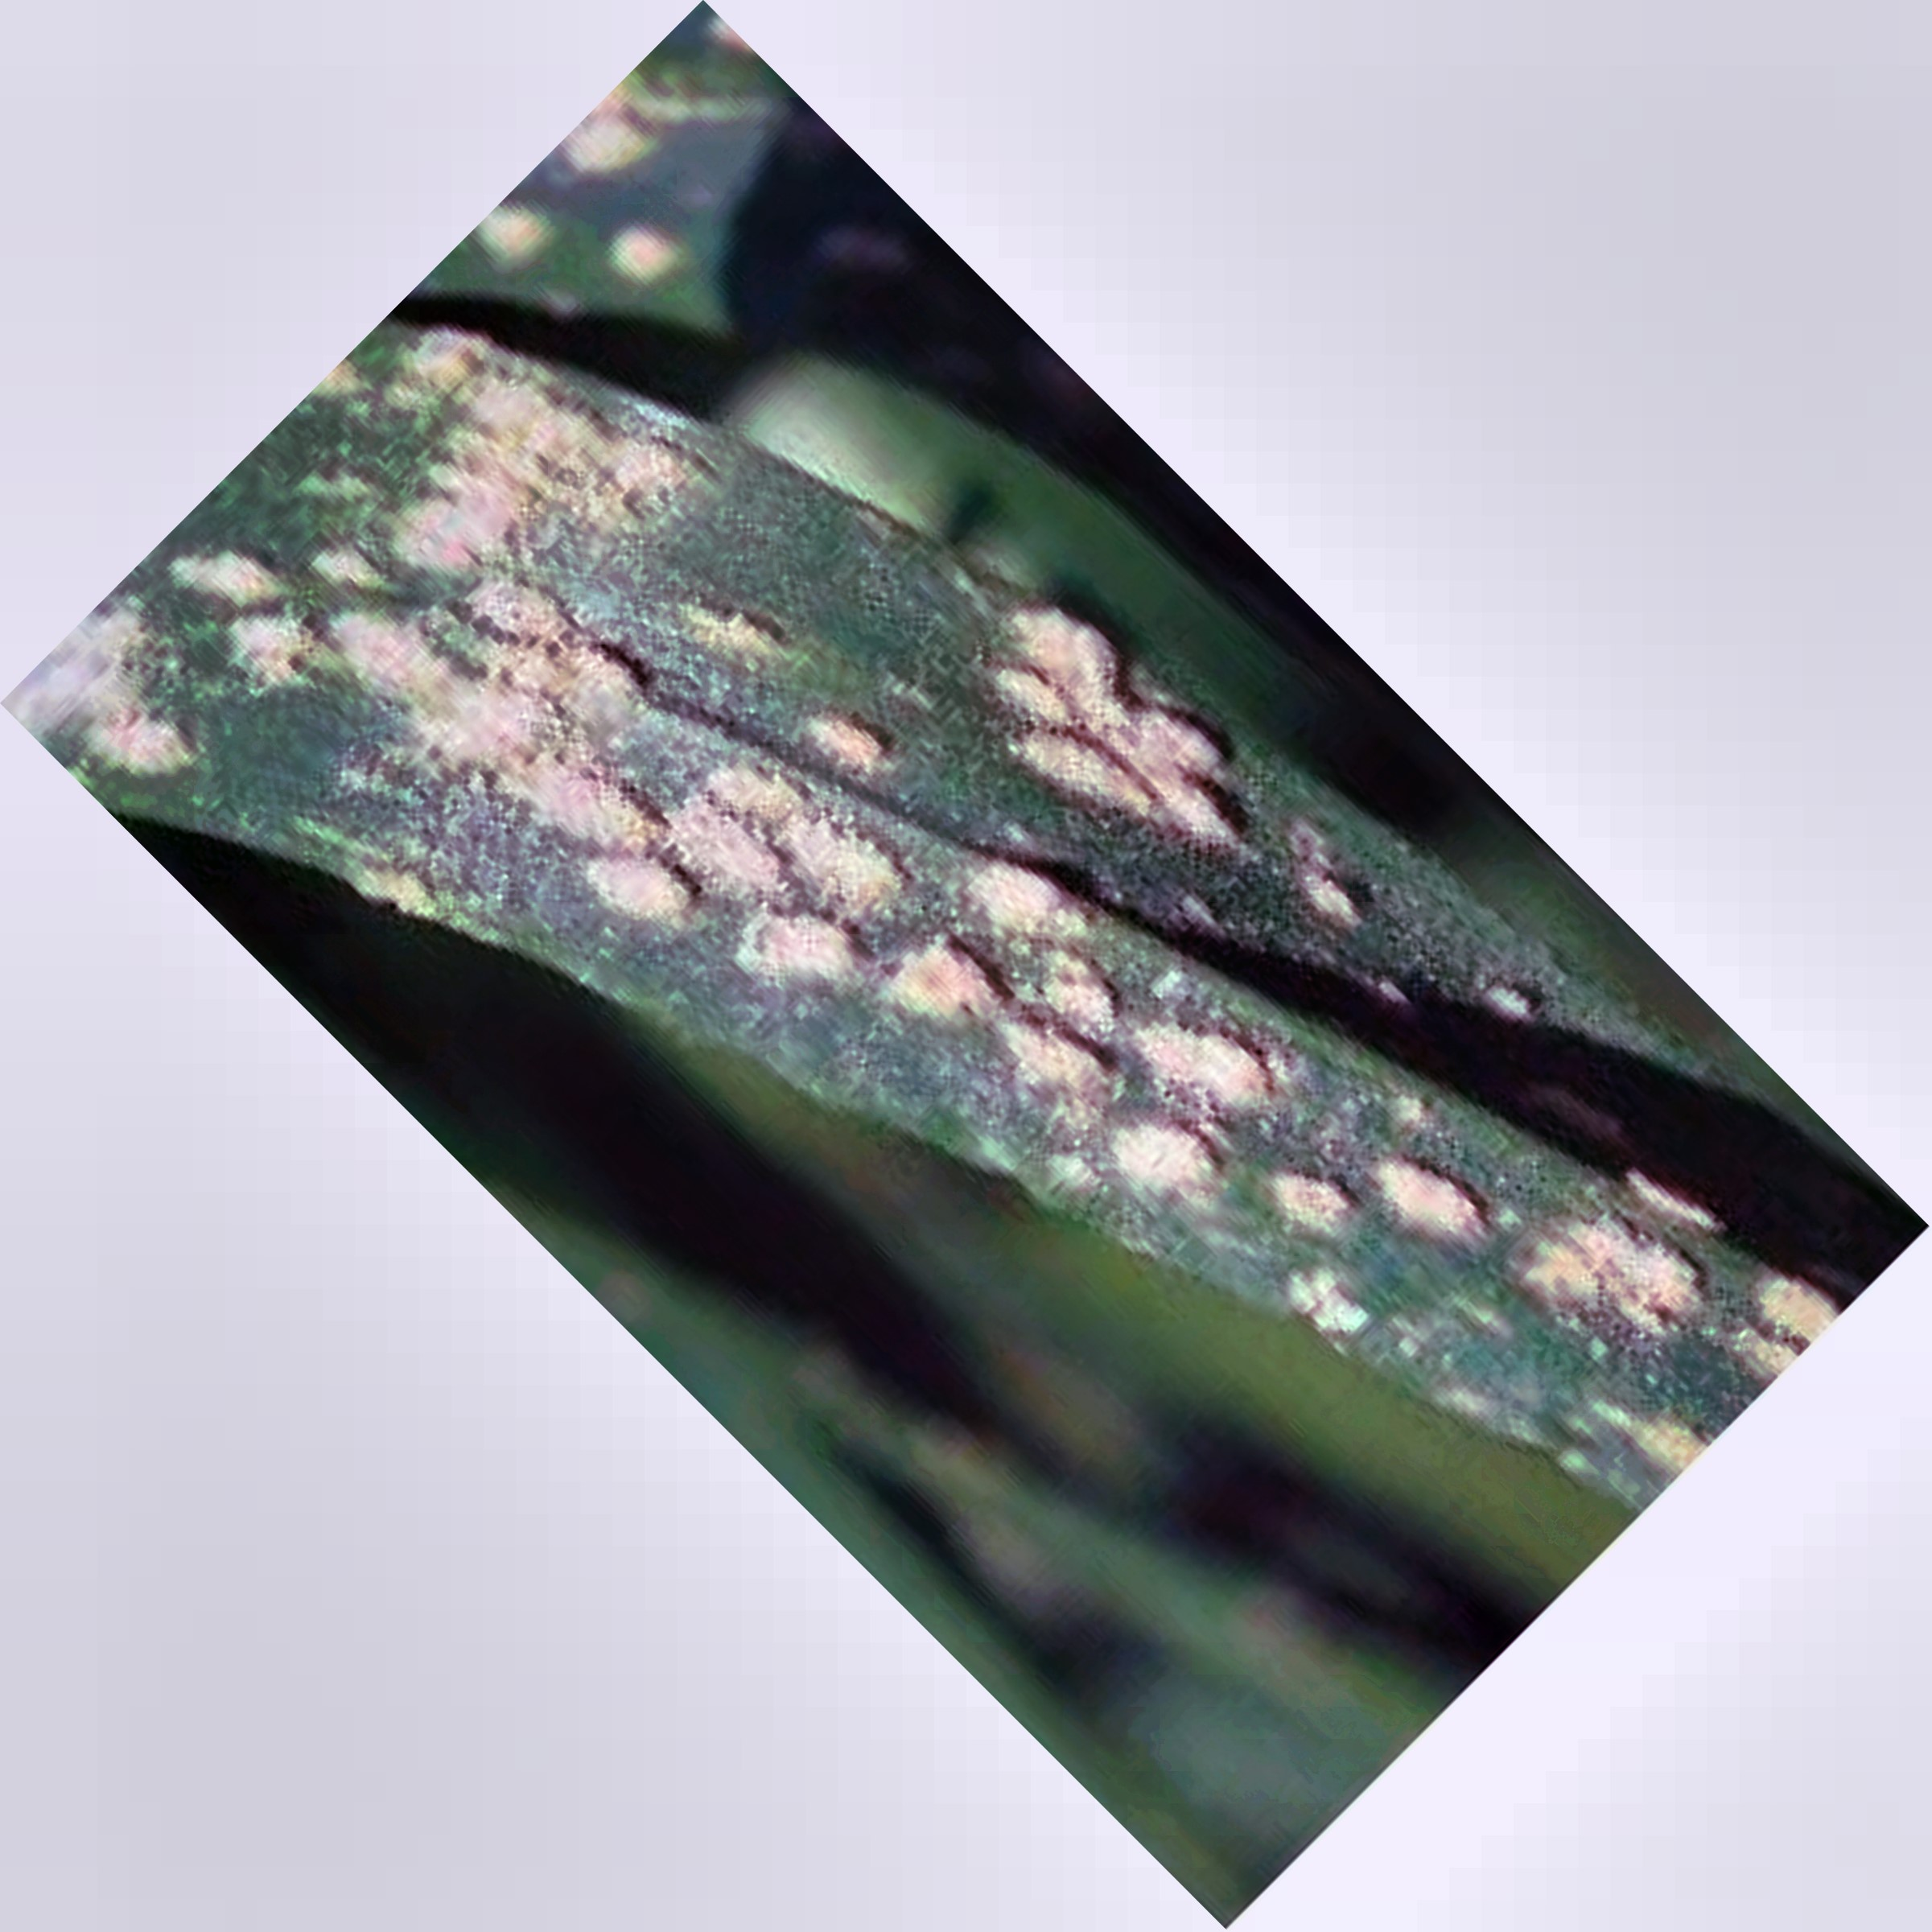Powdery Mildew: (248, 469, 1647, 1408)
